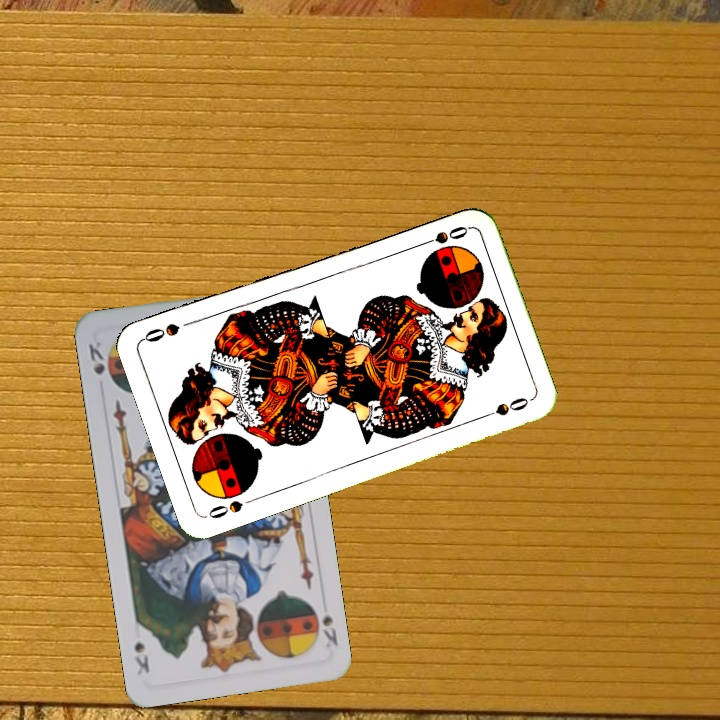SK: (318, 608, 341, 651), (84, 337, 107, 378)
SO: (413, 222, 471, 250), (202, 493, 260, 521)
